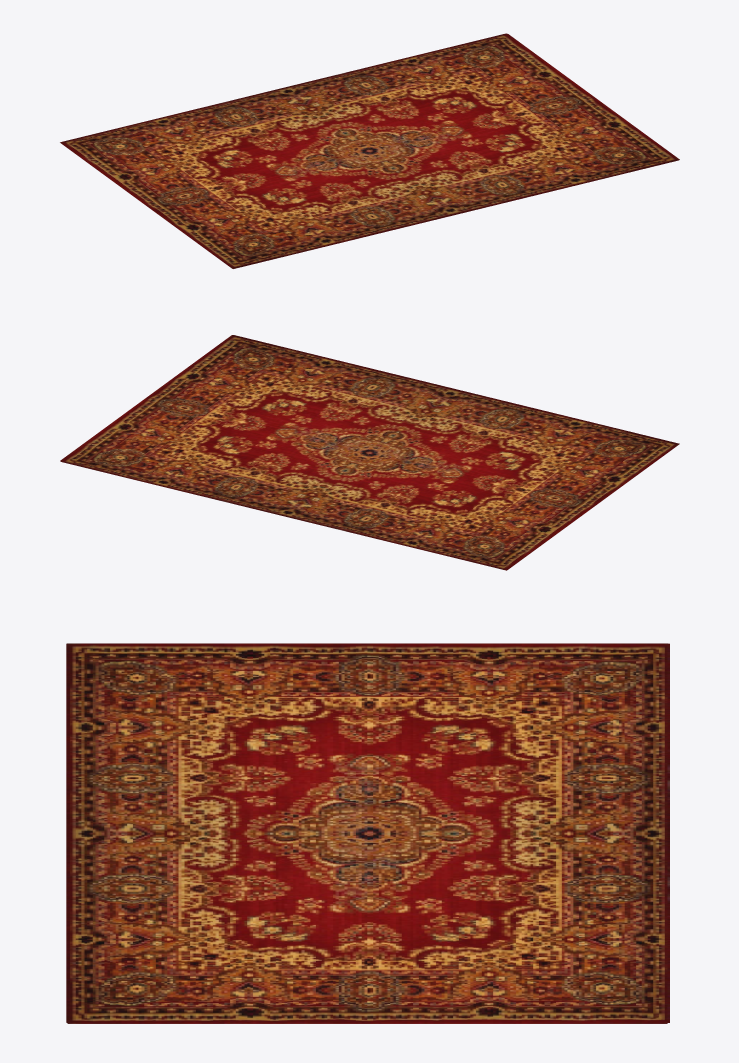
Rendered from Rug3.fbx.
3 renders of one model, top to bottom at view 1: azimuth 30°, elevation 25°; view 2: azimuth 150°, elevation 25°; view 3: azimuth 270°, elevation 25°, orthographic. The views are drawn at different scales.
Parts seen in each view (by area): view 1: Rug; view 2: Rug; view 3: Rug.
Part boxes in pixels (box(x1,y1,x2,y2)): Rug: box(60, 33, 679, 268); Rug: box(60, 335, 679, 570); Rug: box(66, 643, 669, 1023).
Bounding box in the file's own units: 430 × 0 × 300.
Materials: 1 (1 with a texture image).
